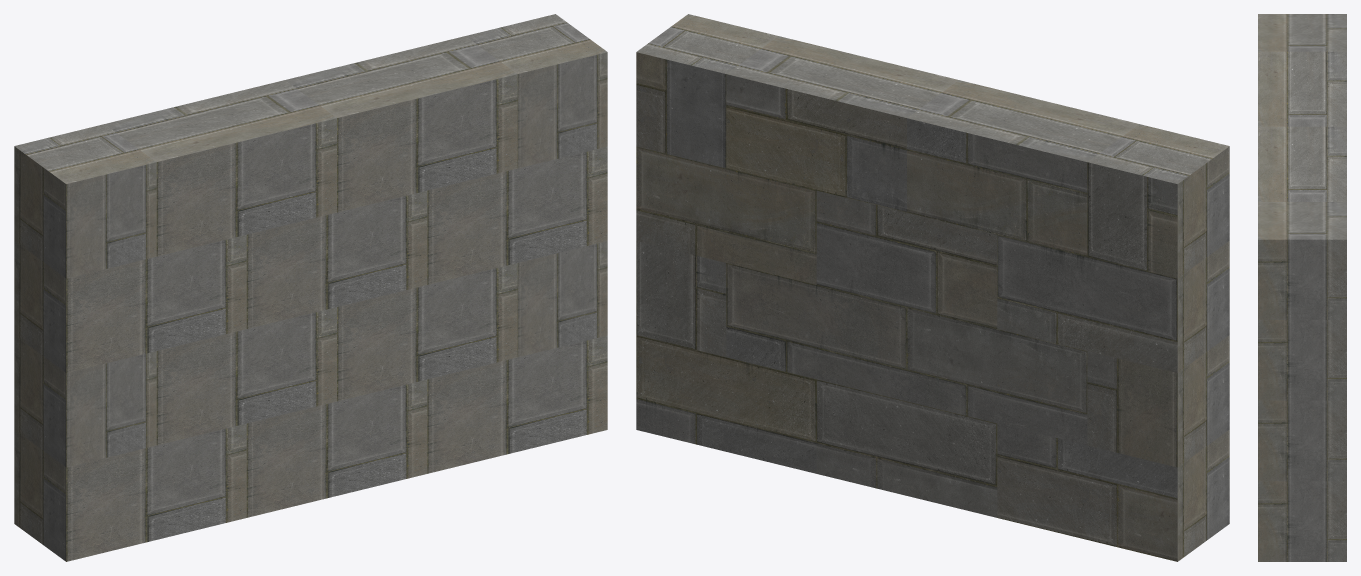
Rendered from wall_to_break_briks.glb.
The picture shows the model from 3 angles, left to right: view 1: azimuth 30°, elevation 25°; view 2: azimuth 150°, elevation 25°; view 3: azimuth 270°, elevation 25°; orthographic projection. The views are drawn at different scales.
Parts seen in each view (by area): view 1: briks.005, briks.009, briks.001, briks.006, briks, briks.007, briks.002, briks.004, briks.003, briks.008, briks.010, briks.013 (+2 smaller); view 2: briks.005, briks.009, briks.001, briks.006, briks, briks.007, briks.002, briks.004, briks.003, briks.008, briks.010, briks.013 (+2 smaller); view 3: briks.011, briks.012, briks.003, briks.008, briks.005, briks.009, briks.
Part boxes in pixels (x1,y1,x2,y2): briks.005: [105, 80, 336, 256]; briks.009: [285, 36, 517, 212]; briks.001: [14, 423, 246, 561]; briks.006: [14, 234, 246, 372]; briks: [14, 124, 156, 278]; briks.007: [246, 190, 427, 328]; briks.002: [246, 379, 427, 517]; briks.004: [337, 263, 517, 401]; briks.003: [427, 335, 607, 473]; briks.008: [427, 146, 607, 284]; briks.010: [156, 307, 336, 445]; briks.013: [14, 335, 156, 467]; briks.005: [907, 80, 1138, 256]; briks.009: [726, 36, 958, 212]; briks.001: [997, 423, 1229, 561]; briks.006: [997, 234, 1229, 372]; briks: [1087, 124, 1229, 278]; briks.007: [816, 190, 997, 328]; briks.002: [816, 379, 997, 517]; briks.004: [726, 263, 906, 401]; briks.003: [636, 335, 816, 473]; briks.008: [636, 146, 816, 284]; briks.010: [907, 307, 1087, 445]; briks.013: [1087, 335, 1229, 467]; briks.011: [1258, 202, 1346, 319]; briks.012: [1258, 400, 1346, 481]; briks.003: [1258, 481, 1346, 561]; briks.008: [1258, 320, 1346, 400]; briks.005: [1258, 51, 1346, 126]; briks.009: [1258, 126, 1346, 201]; briks: [1258, 14, 1346, 51].
Bounding box in the file's own units: 6 × 4 × 1.
1 material, 1 textured.
